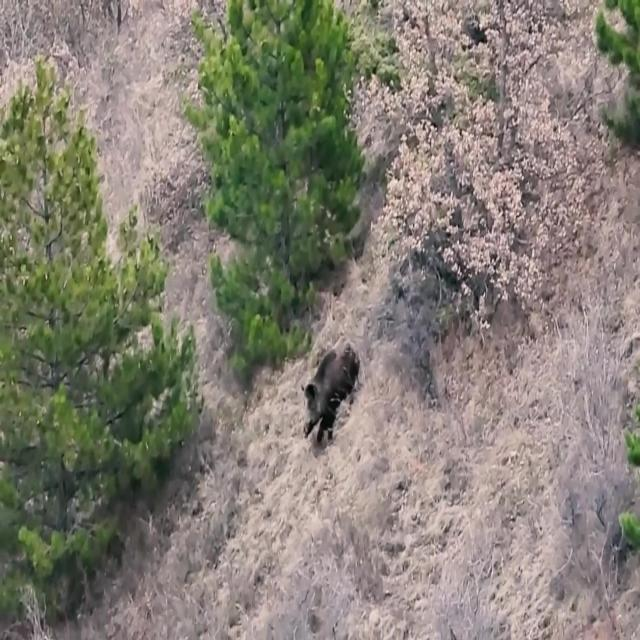pig: (298, 331, 371, 426)
